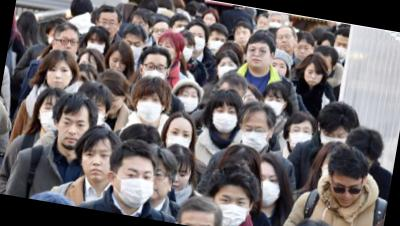with_mask: (112, 163, 158, 211), (210, 190, 252, 226), (239, 120, 271, 153), (256, 172, 283, 209), (134, 91, 164, 124), (210, 103, 239, 136), (37, 98, 62, 134), (164, 125, 193, 152), (288, 122, 314, 151), (175, 86, 201, 113), (318, 127, 349, 149), (141, 59, 169, 83), (263, 93, 286, 117), (187, 29, 208, 54), (122, 37, 143, 59), (206, 33, 226, 55), (86, 36, 108, 55), (332, 40, 349, 60), (180, 42, 195, 63)
without_mask: (78, 143, 114, 183), (55, 115, 90, 152), (327, 177, 364, 210), (244, 42, 273, 71), (44, 62, 74, 90), (150, 165, 172, 203), (95, 16, 120, 41), (54, 34, 80, 57), (172, 166, 193, 192), (274, 30, 297, 53), (107, 53, 128, 74), (302, 66, 323, 87), (293, 41, 313, 61), (233, 27, 252, 47), (271, 59, 289, 76), (152, 24, 169, 41)
